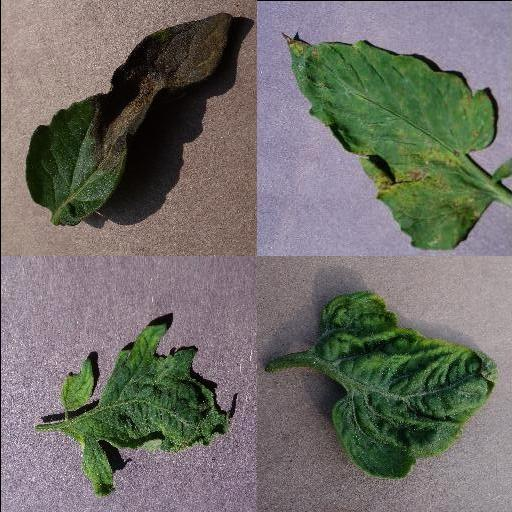Late Blight: (24, 13, 232, 227)
Mosaic Virus: (59, 321, 229, 500)
Septoria: (281, 34, 491, 248)
Yellow Leaf Curl Virus: (318, 292, 498, 480)
